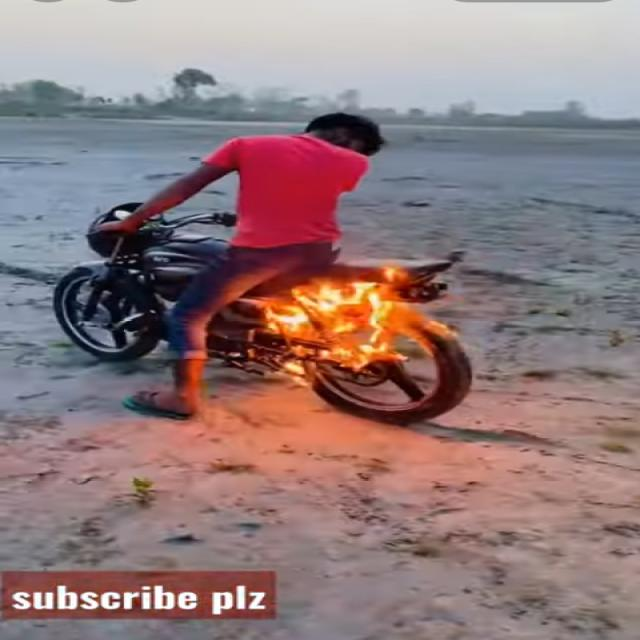fire: (267, 281, 390, 331), (319, 343, 387, 370)
